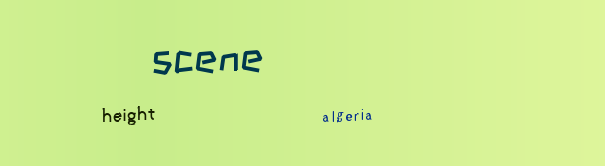h_text: (27, 34, 389, 78), (27, 99, 230, 131), (251, 99, 444, 128)
